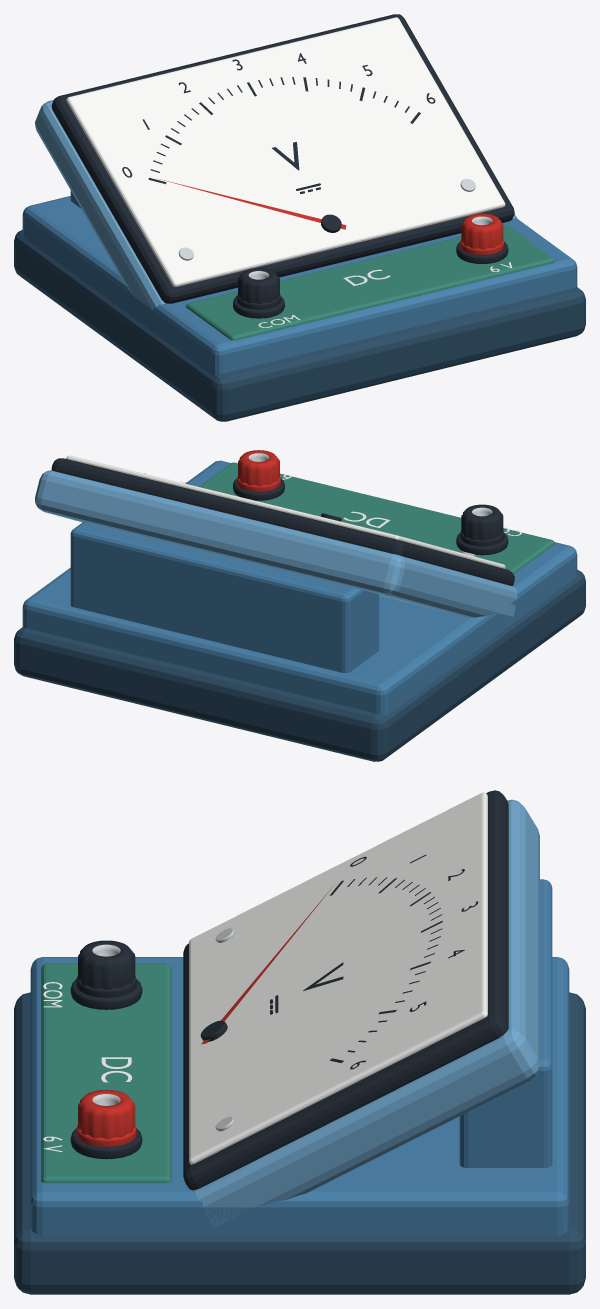
The model's file is analog-voltmeter.glb.
The picture shows the model from 3 angles, top to bottom: view 1: azimuth 30°, elevation 25°; view 2: azimuth 150°, elevation 25°; view 3: azimuth 270°, elevation 25°; orthographic projection. The views are drawn at different scales.
Visible parts, largest first — view 1: Matte dial face, Meter molded base, Meter main shell, Contact panel, Dial meter bezel, Dial meter housing, p binding socket, n binding socket, Scale divisions, n socket washer, p socket washer; view 2: Rear support, Meter molded base, Meter main shell, Dial meter housing, Contact panel, Dial meter bezel, Matte dial face, n binding socket, p binding socket, n socket washer, p socket washer; view 3: Matte dial face, Meter main shell, Meter molded base, Dial meter housing, Contact panel, Dial meter bezel, Rear support, n binding socket, p binding socket, n socket washer, p socket washer, Scale divisions.
Part boxes in pixels (box(x1,y1,x2,y2)): Matte dial face: box(66, 17, 505, 286); Meter molded base: box(14, 229, 585, 421); Meter main shell: box(22, 196, 577, 375); Contact panel: box(186, 226, 554, 340); Dial meter bezel: box(51, 14, 514, 303); Dial meter housing: box(35, 100, 517, 314); p binding socket: box(461, 213, 503, 249); n binding socket: box(238, 268, 279, 303); Scale divisions: box(148, 77, 420, 184); n socket washer: box(233, 296, 284, 318); p socket washer: box(456, 241, 508, 263); Rear support: box(70, 521, 378, 672); Meter molded base: box(14, 569, 585, 761); Meter main shell: box(22, 460, 577, 715); Dial meter housing: box(35, 470, 517, 617); Contact panel: box(199, 462, 554, 574); Dial meter bezel: box(51, 458, 514, 585); Matte dial face: box(66, 455, 505, 568); n binding socket: box(461, 504, 503, 540); p binding socket: box(238, 450, 279, 486); n socket washer: box(456, 533, 508, 555); p socket washer: box(233, 478, 284, 500); Matte dial face: box(189, 792, 487, 1164); Meter main shell: box(30, 957, 569, 1236); Meter molded base: box(14, 992, 585, 1294); Dial meter housing: box(193, 799, 539, 1227); Contact panel: box(41, 963, 171, 1183); Dial meter bezel: box(183, 790, 508, 1190); Rear support: box(459, 879, 552, 1167); n binding socket: box(78, 940, 135, 989); p binding socket: box(78, 1089, 135, 1139); n socket washer: box(70, 979, 142, 1009); p socket washer: box(70, 1128, 142, 1159); Scale divisions: box(329, 877, 442, 1062).
Size of the model in its own units: 0.14 by 0.0733 by 0.136.
